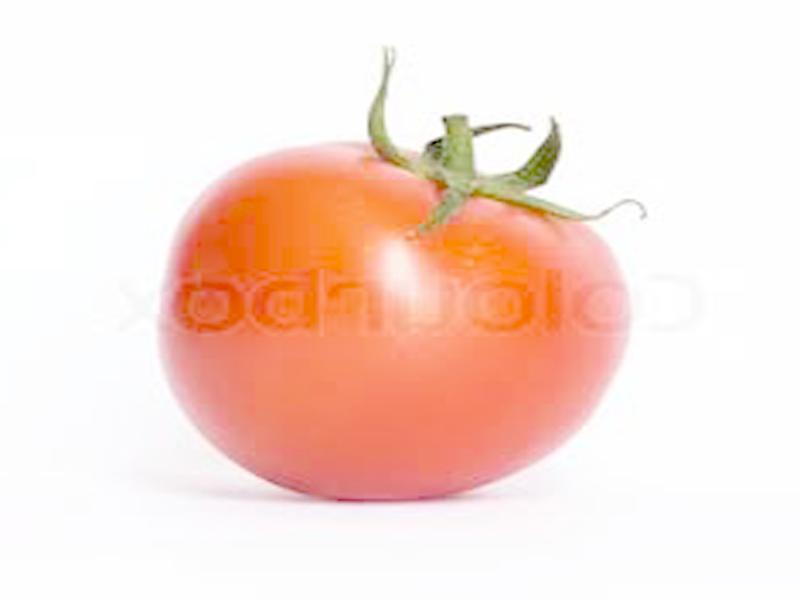Tomato: (159, 140, 625, 496)
